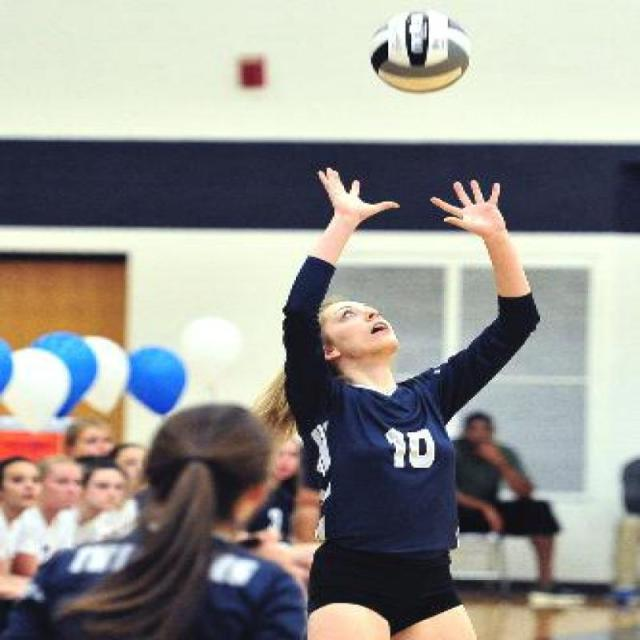volleyball: (367, 8, 475, 95)
